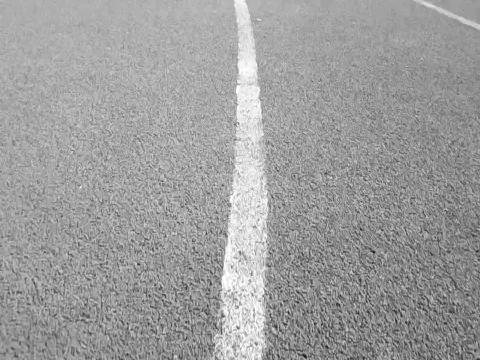Lines: (211, 0, 269, 360)
